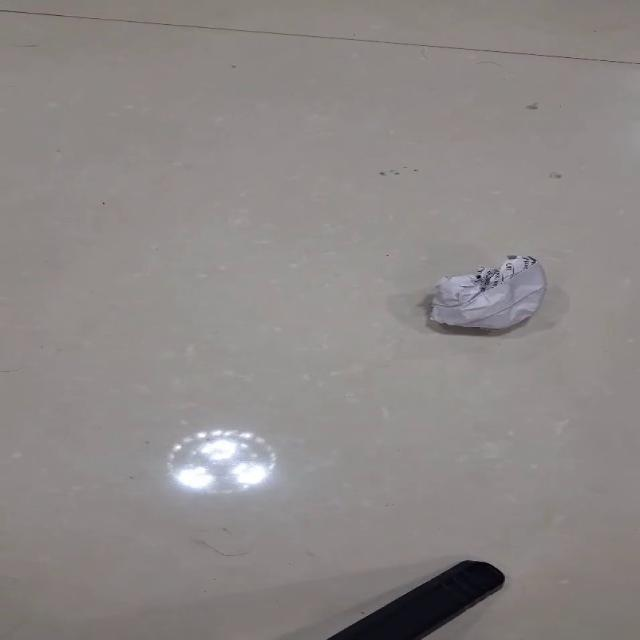paper: (427, 254, 546, 330)
